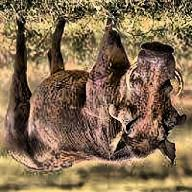boar: (2, 9, 187, 173)
